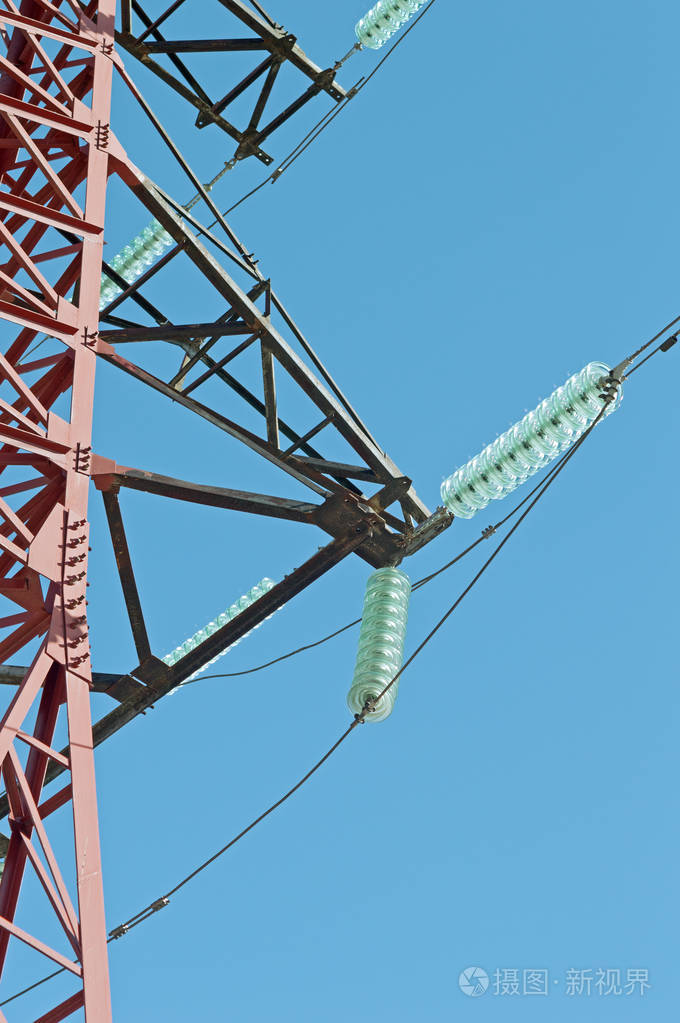insulator: (437, 357, 624, 520), (349, 569, 413, 721), (100, 221, 170, 303), (353, 1, 422, 49)
